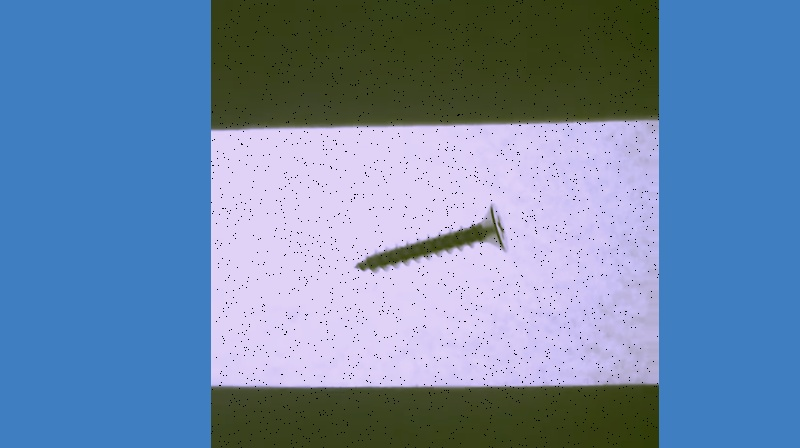S001: (348, 196, 514, 276)
